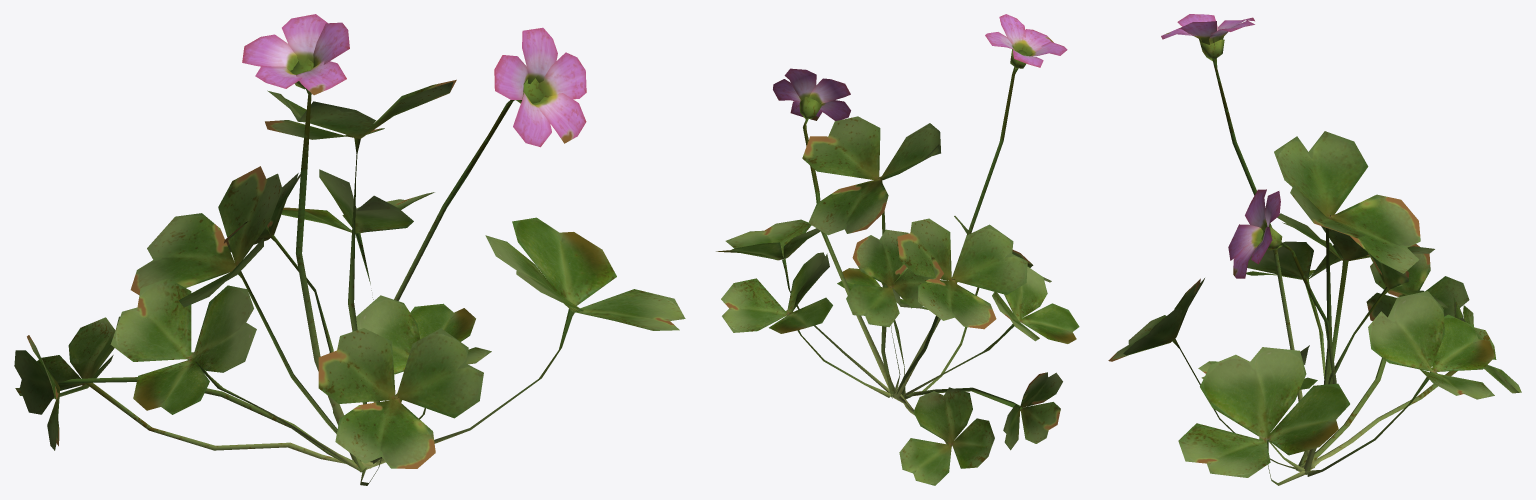
The model's file is sorrel.glb.
3 views of the same model, side by side, from view 1: azimuth 30°, elevation 25°; view 2: azimuth 150°, elevation 25°; view 3: azimuth 270°, elevation 25° (orthographic). The views are drawn at different scales.
Parts seen in each view (by area): view 1: shrub_sorrel_01_d; view 2: shrub_sorrel_01_d; view 3: shrub_sorrel_01_d.
Part boxes in pixels (x1,y1,x2,y2): shrub_sorrel_01_d: [14, 14, 685, 485]; shrub_sorrel_01_d: [716, 14, 1079, 485]; shrub_sorrel_01_d: [1108, 14, 1521, 485].
Bounding box in the file's own units: 0.5633 × 0.5031 × 0.45.
Materials: 1 (1 with a texture image).
